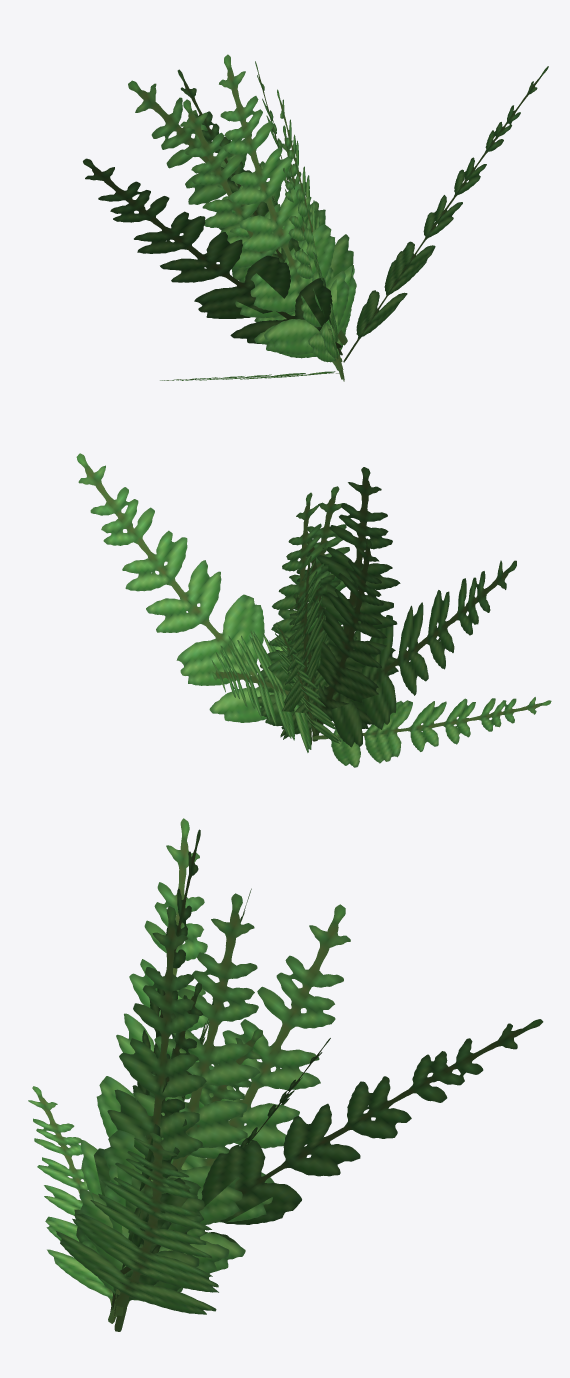
File: bush-vn-fern.glb
3 views of the same model, one above another, from view 1: azimuth 30°, elevation 25°; view 2: azimuth 150°, elevation 25°; view 3: azimuth 270°, elevation 25° (orthographic). The views are drawn at different scales.
Parts seen in each view (by area): view 1: bush-vn-fern; view 2: bush-vn-fern; view 3: bush-vn-fern.
Part boxes in pixels (box(x1,y1,x2,y2)): bush-vn-fern: box(83, 54, 548, 381); bush-vn-fern: box(76, 453, 551, 767); bush-vn-fern: box(28, 818, 543, 1331).
Size of the model in its own units: 1.86 by 1.2 by 1.27.
1 material, 1 textured.
